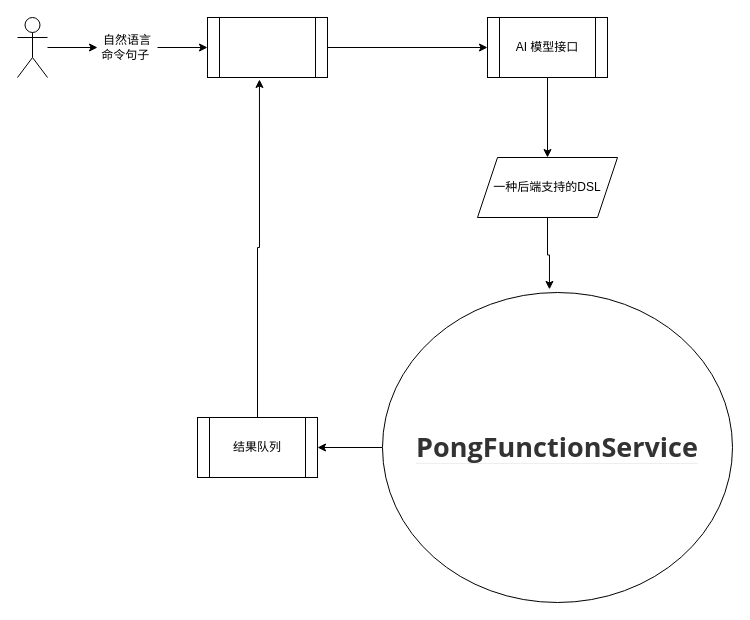
Some shapes in this 750 by 620 pixel diagram are drawn without their labels. The box of each missing label's shape, as (x1, y1, x2, y2) in pixels:
Actor: (16, 16, 48, 78)
REPL前端: (206, 16, 328, 78)
